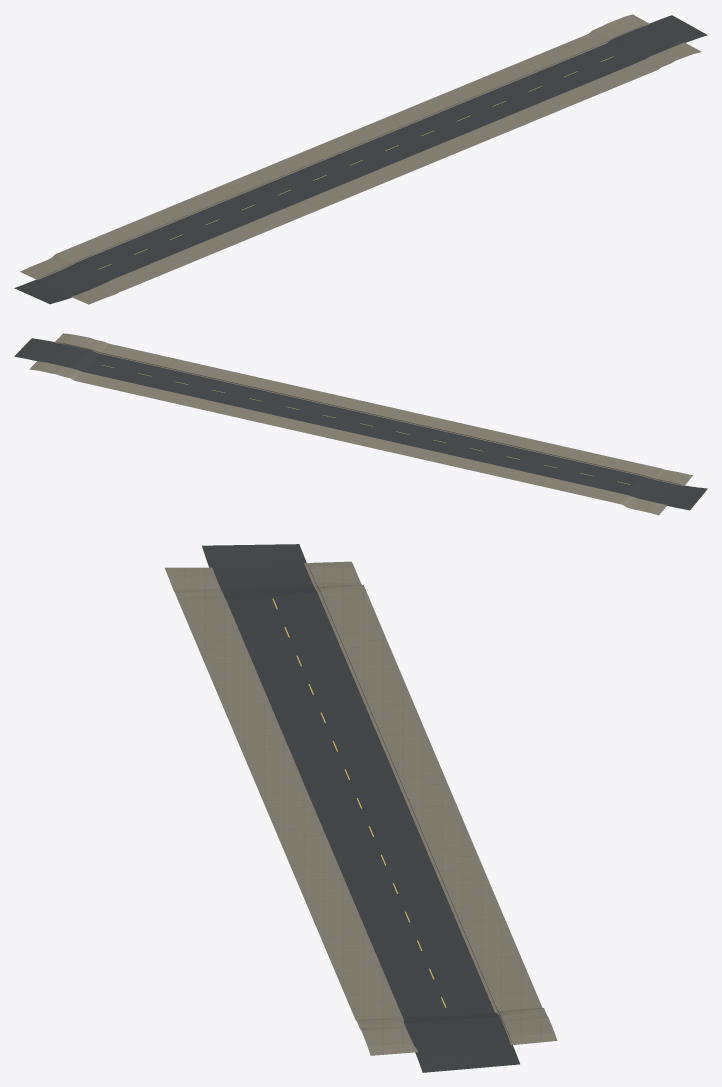
3 views of the same model, one above another, from view 1: azimuth 30°, elevation 25°; view 2: azimuth 150°, elevation 25°; view 3: azimuth 270°, elevation 25° (orthographic). The views are drawn at different scales.
Visible parts, largest first — view 1: Carriageway, Clipped sidewalks with lowered crossing approaches, Concrete drainage margins, Raised curb faces; view 2: Carriageway, Clipped sidewalks with lowered crossing approaches, Concrete drainage margins, Raised curb faces; view 3: Carriageway, Clipped sidewalks with lowered crossing approaches, Concrete drainage margins.
Part boxes in pixels (left/top/right/bottom): Carriageway: left=14, top=15, right=707, bottom=304; Clipped sidewalks with lowered crossing approaches: left=20, top=14, right=701, bottom=304; Concrete drainage margins: left=37, top=23, right=684, bottom=297; Raised curb faces: left=38, top=24, right=647, bottom=278; Carriageway: left=14, top=338, right=707, bottom=510; Clipped sidewalks with lowered crossing approaches: left=29, top=333, right=692, bottom=515; Concrete drainage margins: left=37, top=342, right=684, bottom=505; Raised curb faces: left=57, top=342, right=683, bottom=485; Carriageway: left=202, top=544, right=519, bottom=1072; Clipped sidewalks with lowered crossing approaches: left=164, top=561, right=557, bottom=1055; Concrete drainage margins: left=209, top=563, right=512, bottom=1052.
Bounding box in the file's own units: 147 × 9.6 × 39.75.
